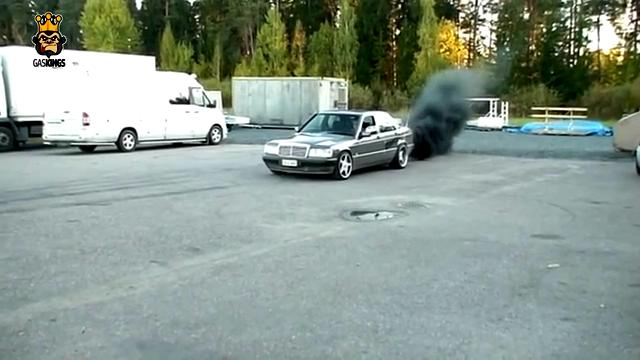smoke: (407, 65, 486, 159)
